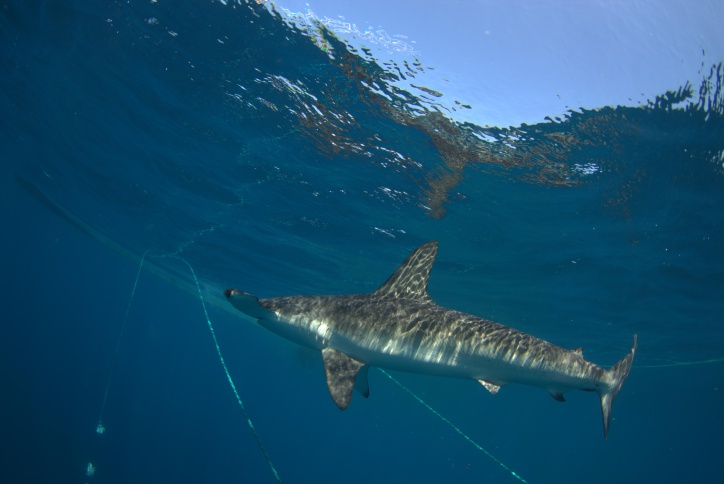Hammer: (211, 227, 644, 444)
